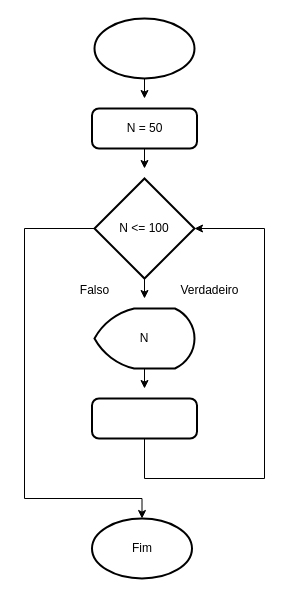
Image size: 290x596. Some labels were removed from this diagram. The shapes that lost their labels are listed below. From the top down, each one's box as (x1, y1, x2, y2) in pixels, then its label:
(93, 17, 195, 79): Início
(90, 397, 198, 439): N = N + 1
